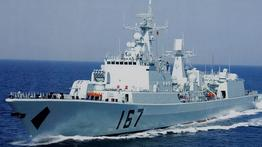warship: (4, 1, 259, 139)
